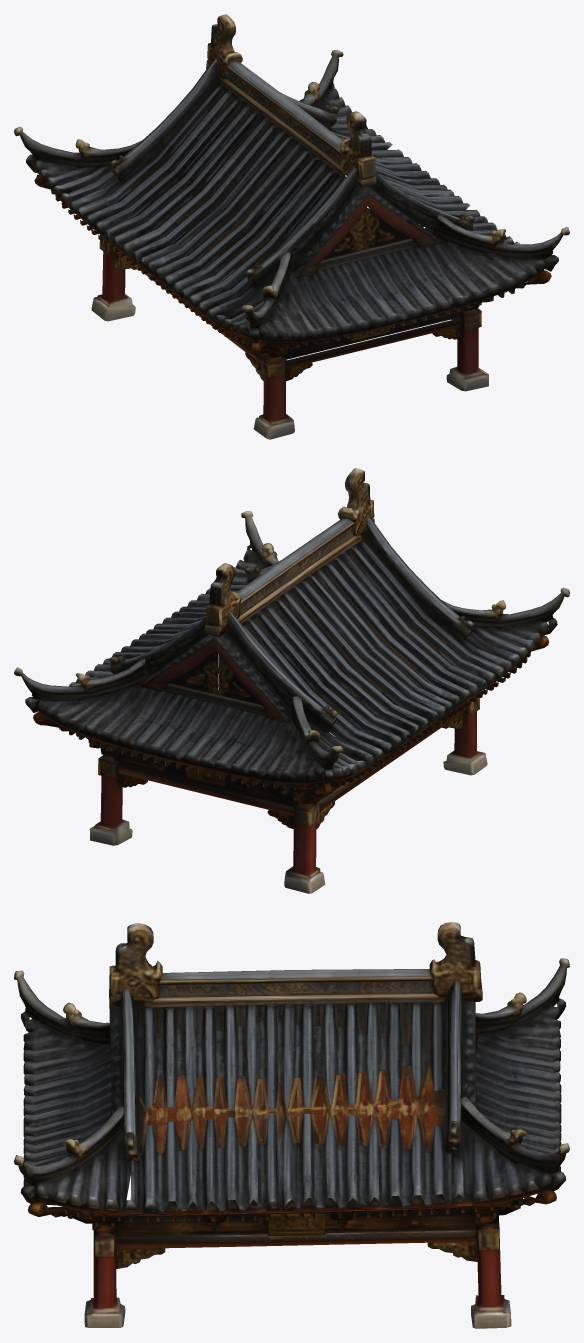
Rendered from 中国传统亭子3d模型.glb.
3 views of the same model, one above another, from view 1: azimuth 30°, elevation 25°; view 2: azimuth 150°, elevation 25°; view 3: azimuth 270°, elevation 25° (orthographic). The views are drawn at different scales.
Parts seen in each view (by area): view 1: tripo_4018004e_216e_4bd5_8150_d2443d1480ce; view 2: tripo_4018004e_216e_4bd5_8150_d2443d1480ce; view 3: tripo_4018004e_216e_4bd5_8150_d2443d1480ce.
Boxes of the visible parts, box(x1,y1,x2,y2) form: tripo_4018004e_216e_4bd5_8150_d2443d1480ce: box(14, 14, 569, 439); tripo_4018004e_216e_4bd5_8150_d2443d1480ce: box(14, 468, 569, 893); tripo_4018004e_216e_4bd5_8150_d2443d1480ce: box(14, 922, 569, 1328).
Size of the model in its own units: 0.814 by 0.6763 by 0.9995.
Materials: 1 (1 with a texture image).
